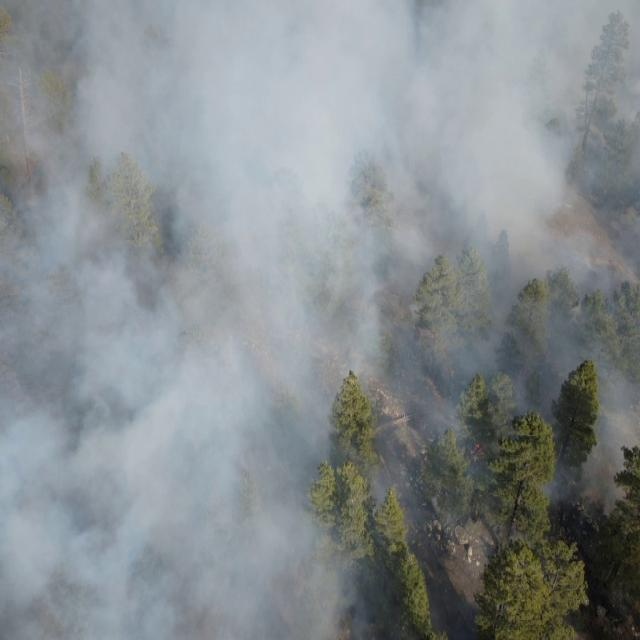fire: (468, 438, 486, 458)
smoke: (0, 1, 454, 640), (457, 0, 640, 468), (457, 470, 640, 520)
